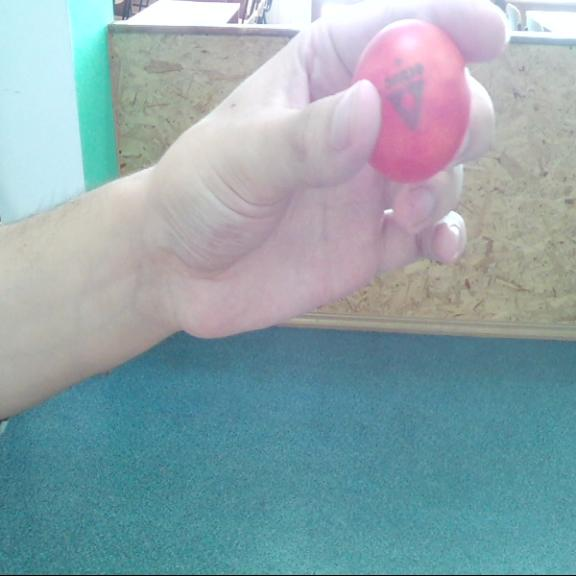ball: (355, 15, 472, 180)
